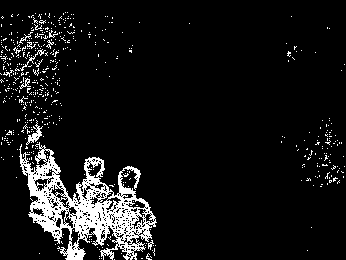person: (112, 164, 155, 257), (31, 150, 71, 241), (73, 157, 112, 246), (22, 124, 48, 178)
